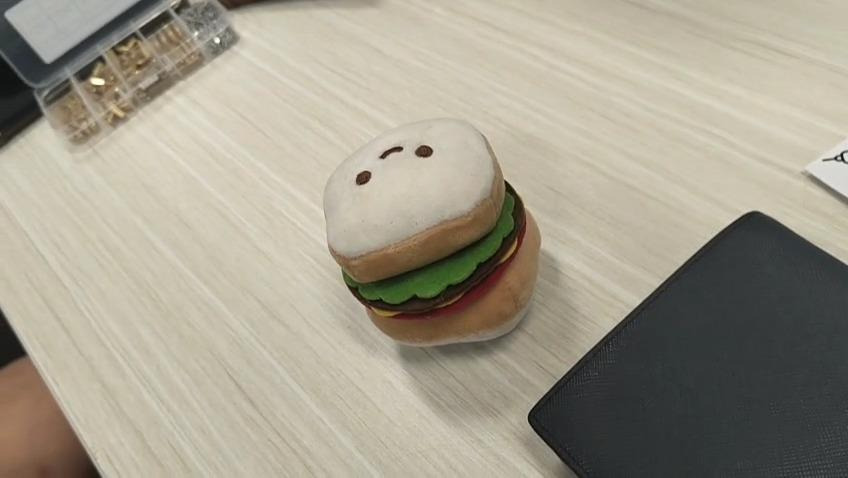objects: (319, 124, 543, 350)
